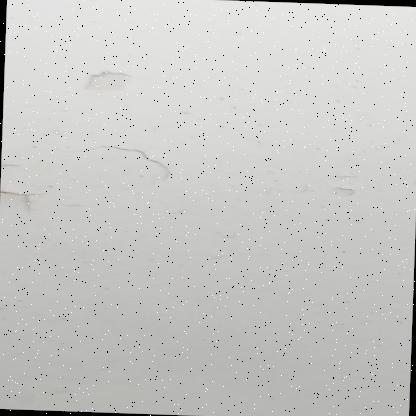Crack: (52, 122, 184, 192), (50, 60, 148, 102), (0, 156, 50, 220), (304, 180, 361, 204), (403, 199, 415, 242)
